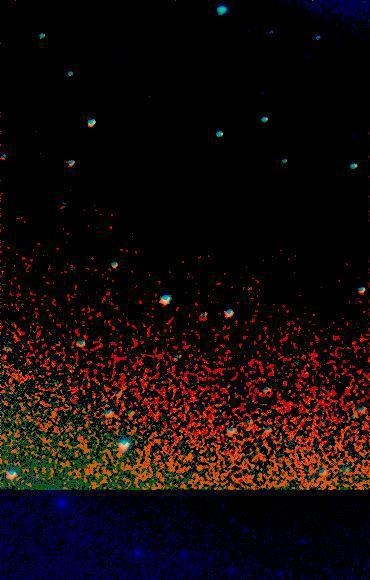star: (95, 214, 125, 244)
